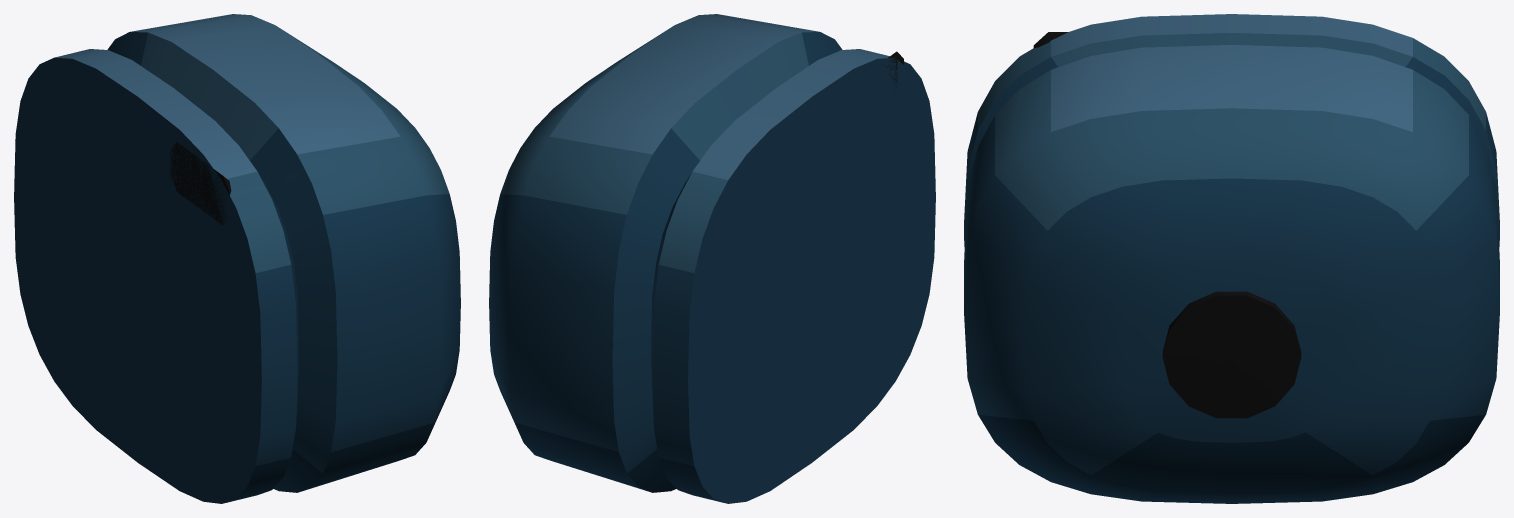
The model's file is deli_cannon_muzzle.glb.
The picture shows the model from 3 angles, left to right: view 1: azimuth 30°, elevation 25°; view 2: azimuth 150°, elevation 25°; view 3: azimuth 270°, elevation 25°; orthographic projection. The views are drawn at different scales.
Visible parts, largest first — view 1: muzzle, port_hole; view 2: muzzle; view 3: muzzle, bore.
Boxes of the visible parts, x1,y1,x2,y2 form: muzzle: (14, 14, 460, 503); port_hole: (170, 142, 231, 225); muzzle: (489, 14, 935, 503); muzzle: (964, 14, 1499, 503); bore: (1162, 291, 1301, 418).
Bounding box in the file's own units: 6.55 × 9.2 × 10.8.
